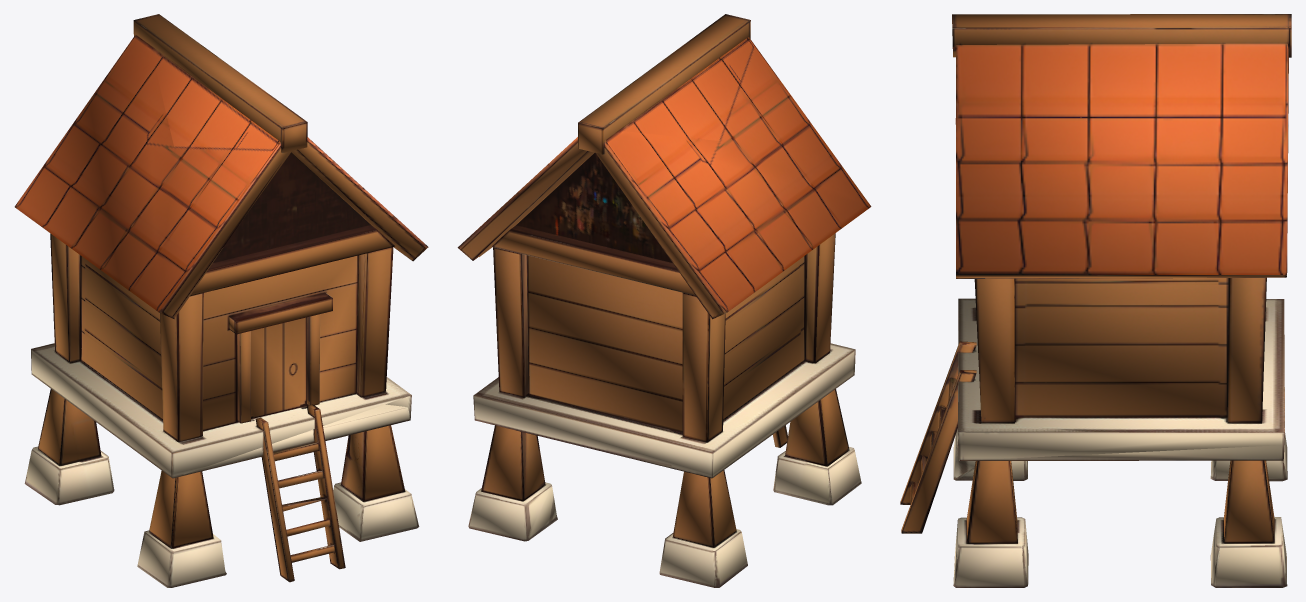
File: meshy-c-550.glb
3 renders of one model, left to right at view 1: azimuth 30°, elevation 25°; view 2: azimuth 150°, elevation 25°; view 3: azimuth 270°, elevation 25°, orthographic. The views are drawn at different scales.
Bounding box in the file's own units: 0.6512 × 1 × 0.7142.
Materials: 1 (1 with a texture image).
